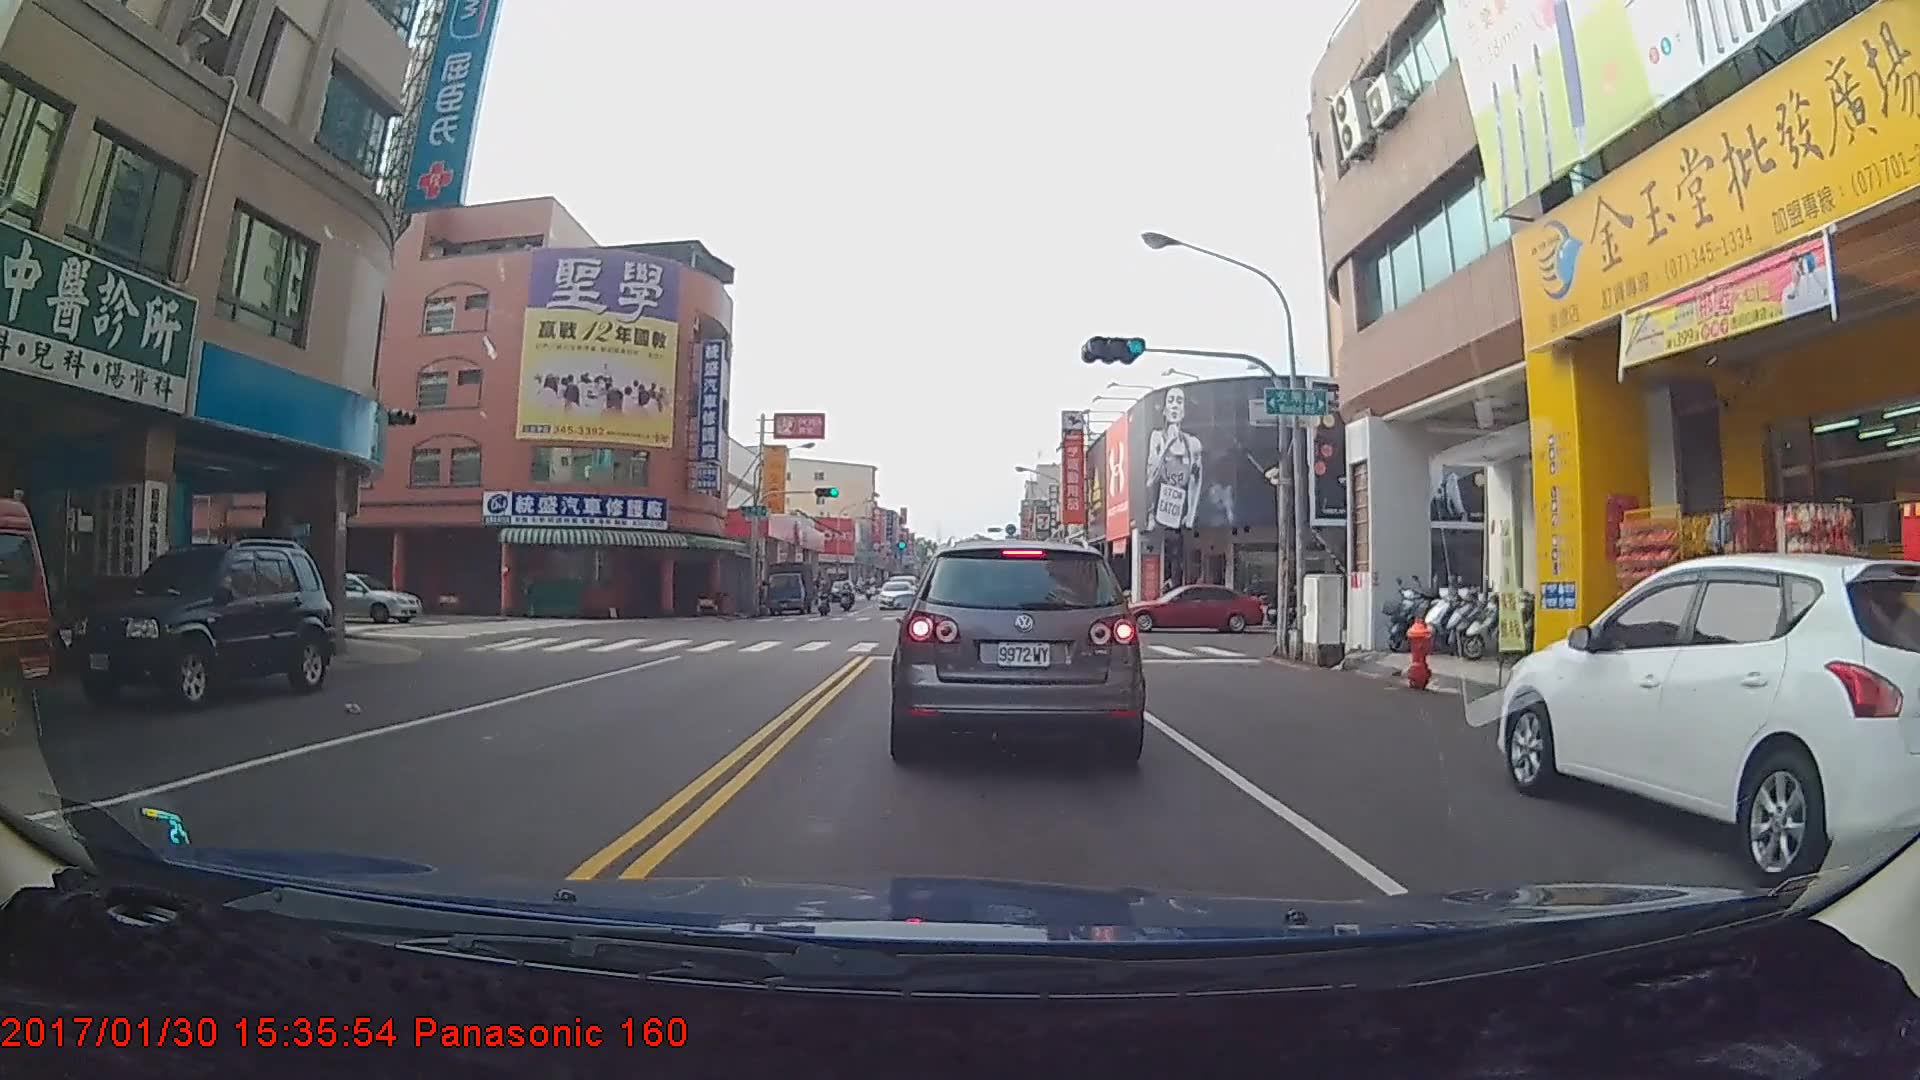rider: (810, 585, 835, 624), (839, 587, 860, 620)
vehicle: (1496, 552, 1919, 889), (893, 536, 1139, 762), (67, 539, 334, 711), (1113, 579, 1261, 631), (285, 572, 423, 624), (764, 565, 818, 621), (877, 579, 914, 609)
